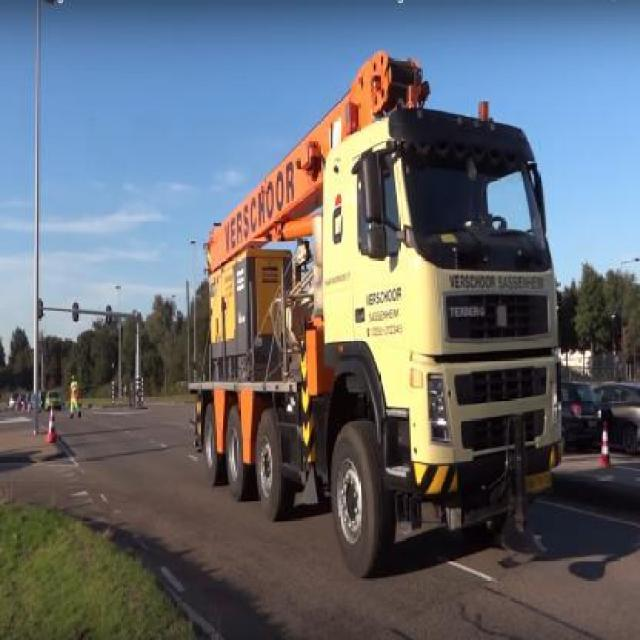Mobile Crane: (186, 52, 557, 574)
